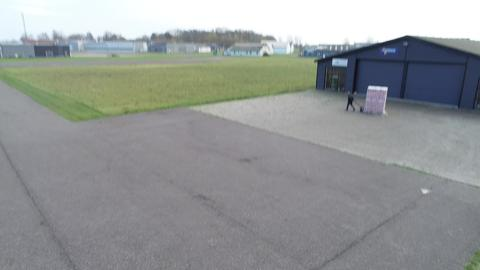RockwoolPallet: (364, 84, 390, 115)
